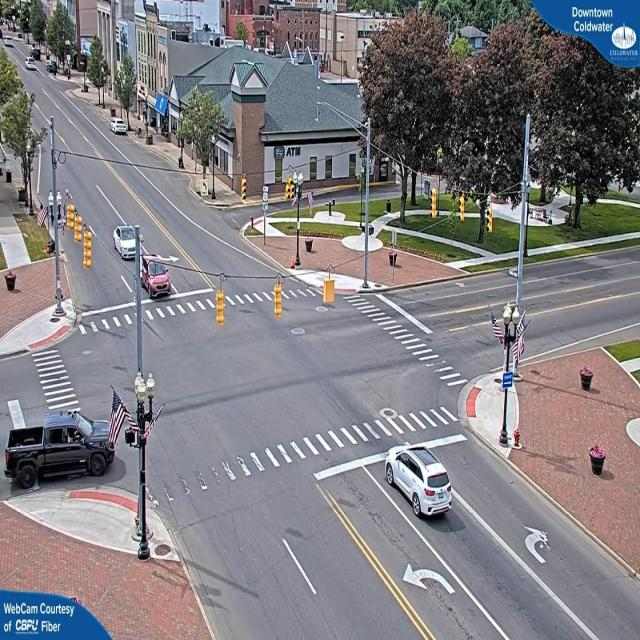car: (6, 409, 116, 486), (386, 444, 453, 520), (141, 255, 169, 294), (113, 223, 141, 259), (111, 119, 129, 136), (26, 59, 37, 71), (4, 38, 13, 47)
